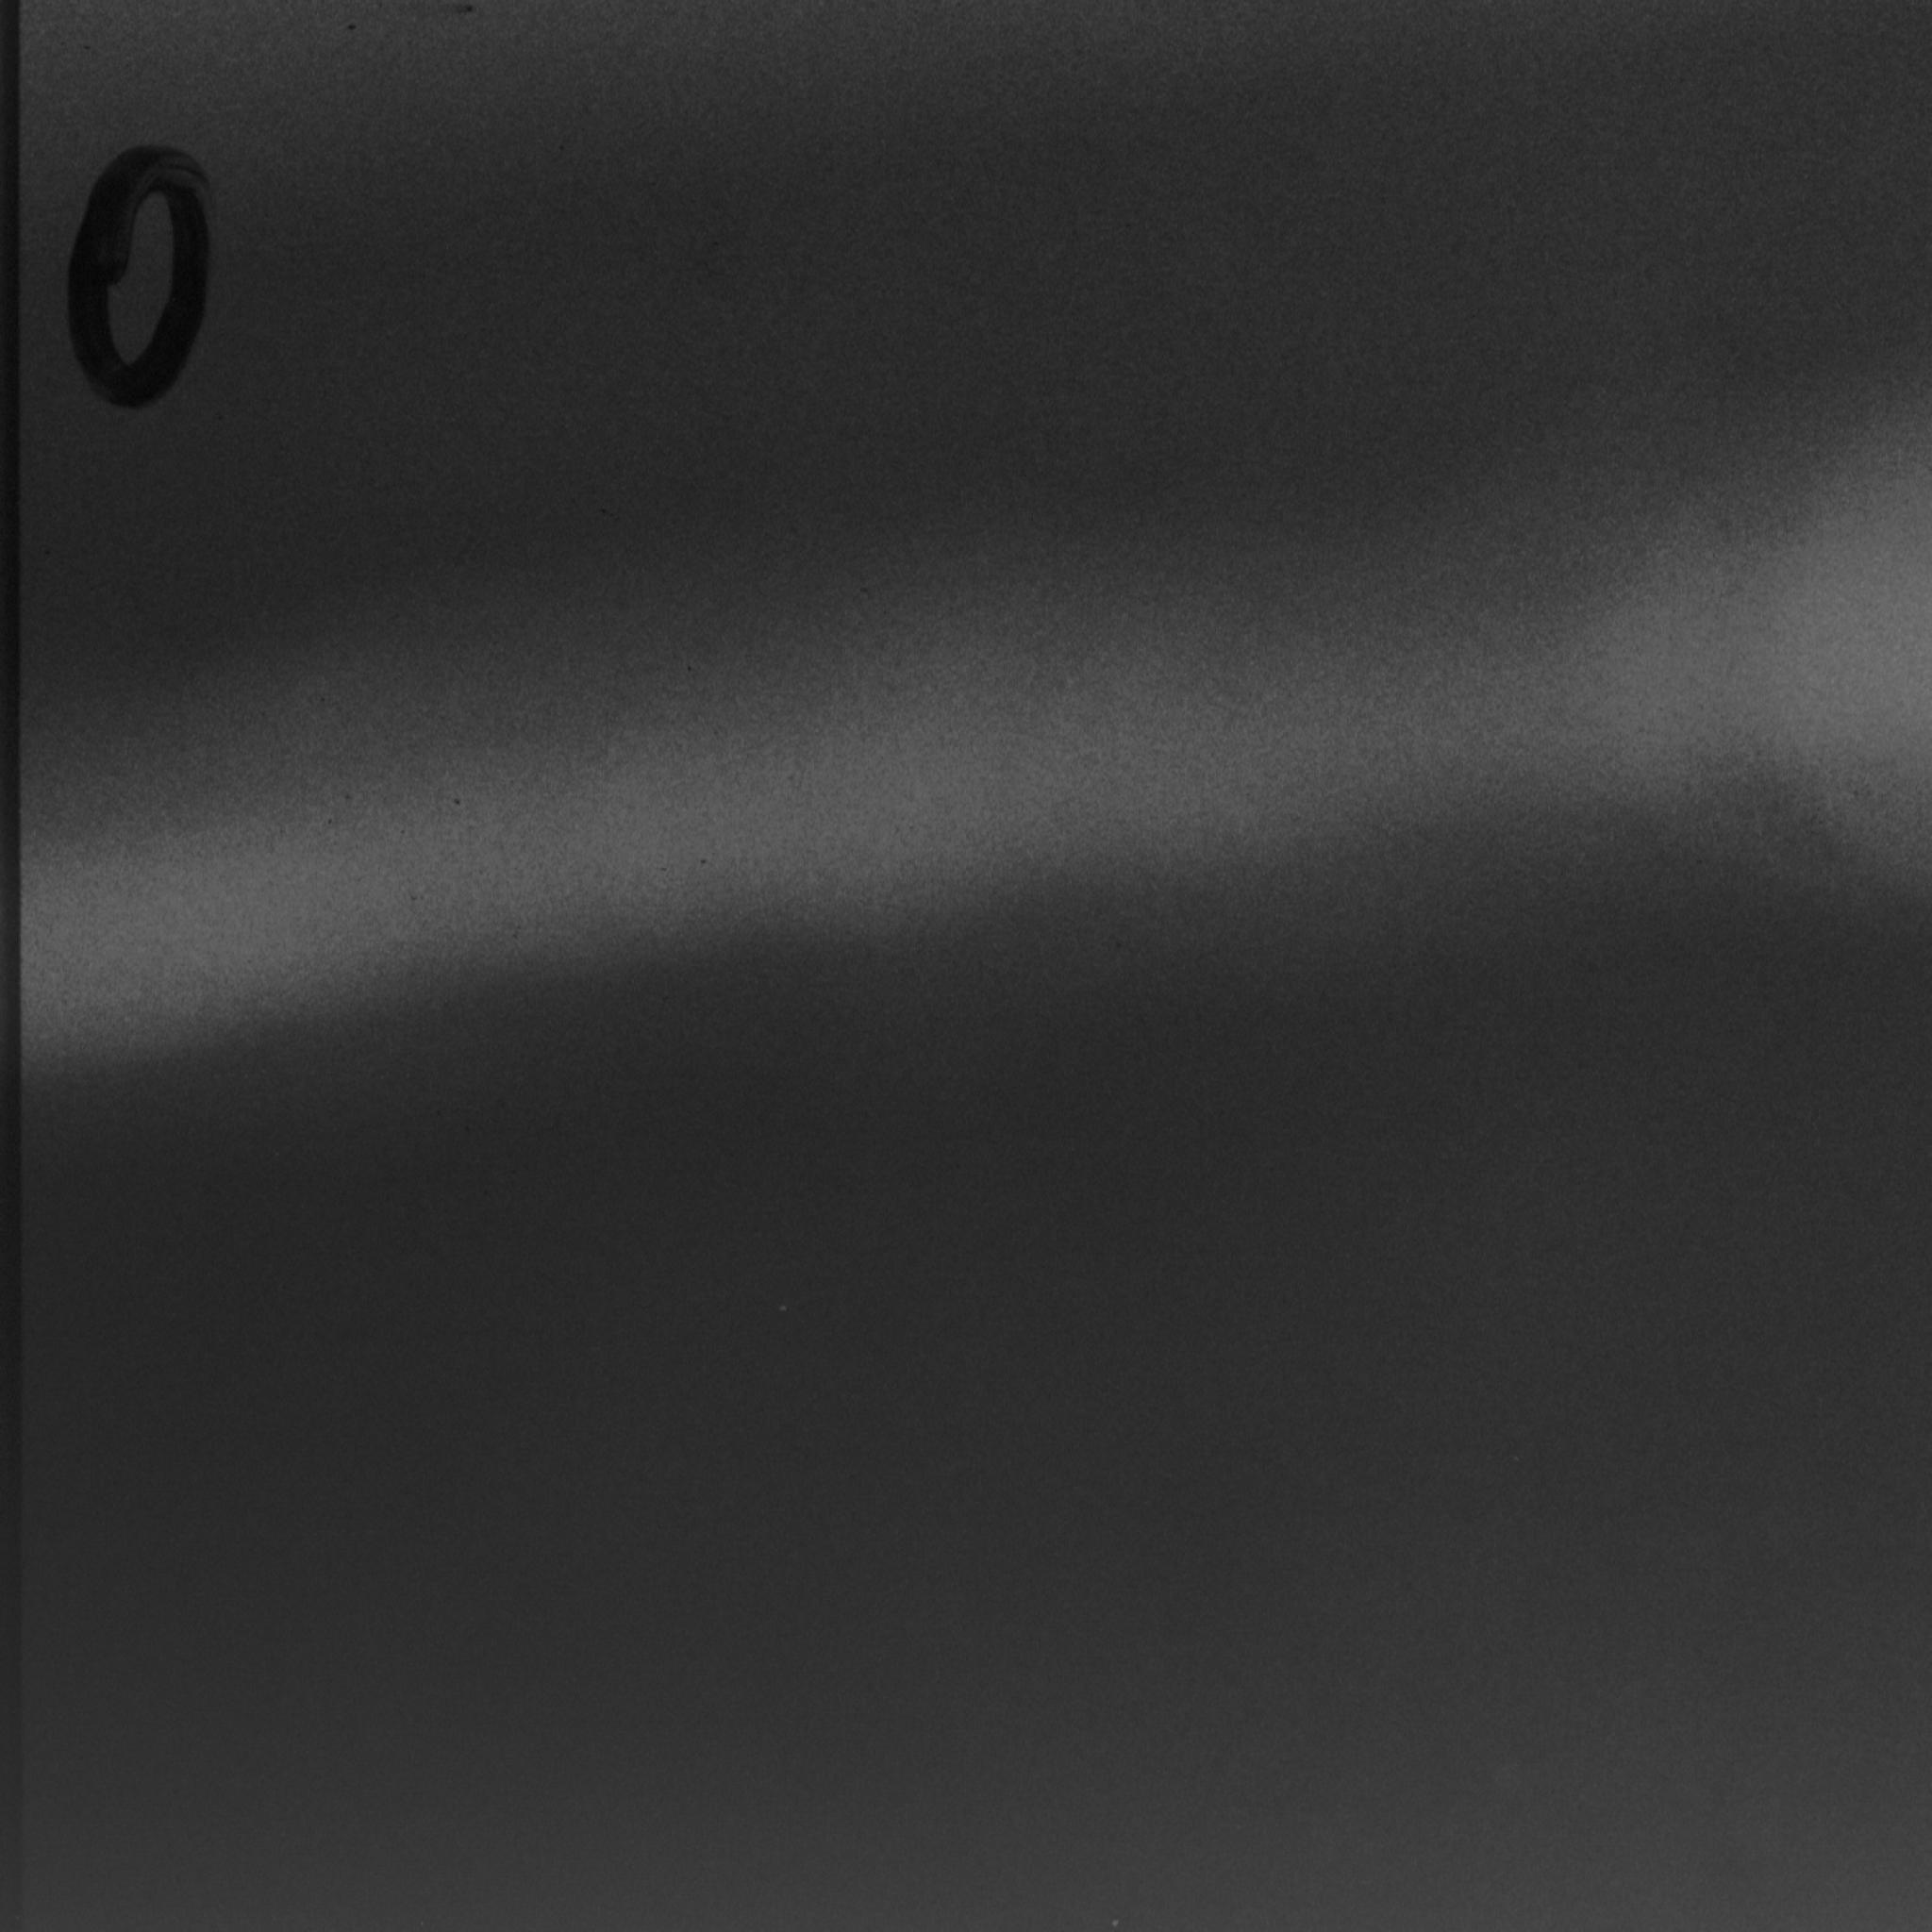Sem defeitos: (0, 372, 1932, 1086)
